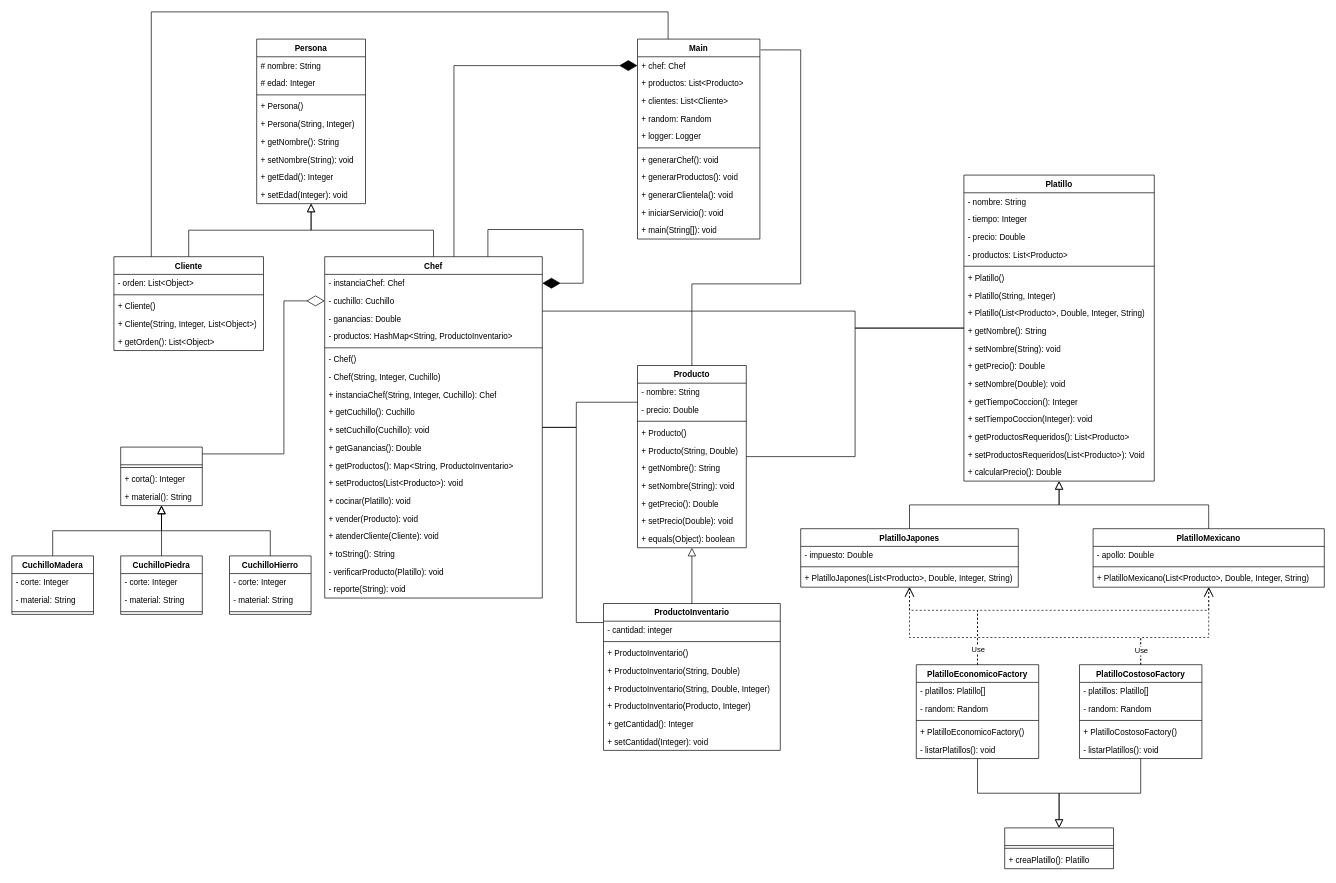
The diagram is 1336 pixels wide and 883 high, and some of its shapes have lost their labels. The shapes that lost their labels are listed below. From the top down, each one's box as (x1, y1, x2, y2) in pixels, then its label:
(120, 446, 202, 506): Cuchillo
(1004, 827, 1114, 869): PlatilloFactory
